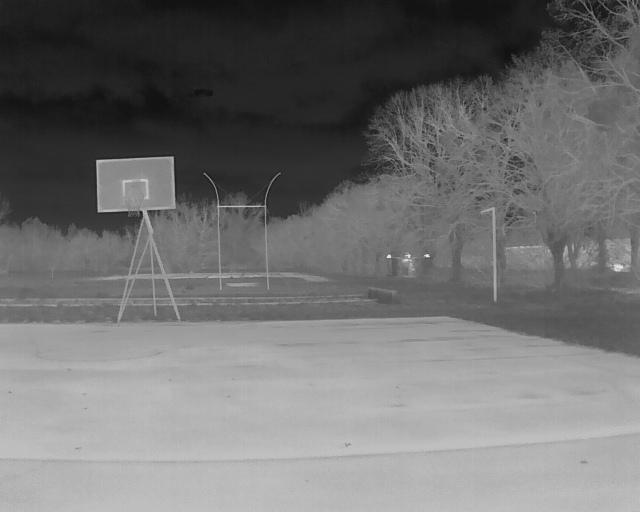drone: (374, 242, 434, 288)
